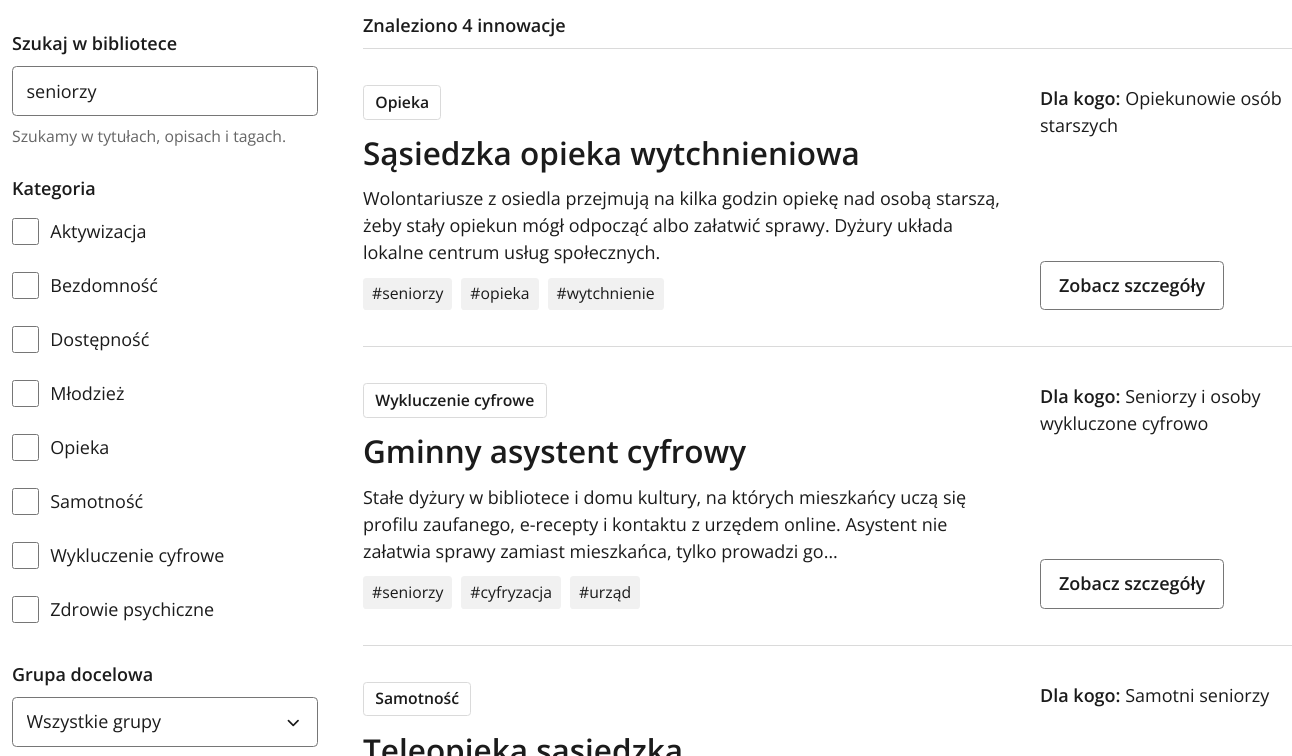
Test: InnovationLibrary › combines the search with category and target group filters
Expected: the search field labelled "Szukaj w bibliotece" holds "seniorzy", [12, 66, 318, 116]
Expected: the message reads "Znaleziono 4 innowacje", [363, 13, 566, 37]
Click the checkbox labelled "Opieka" at (26, 447), box [12, 434, 39, 461]
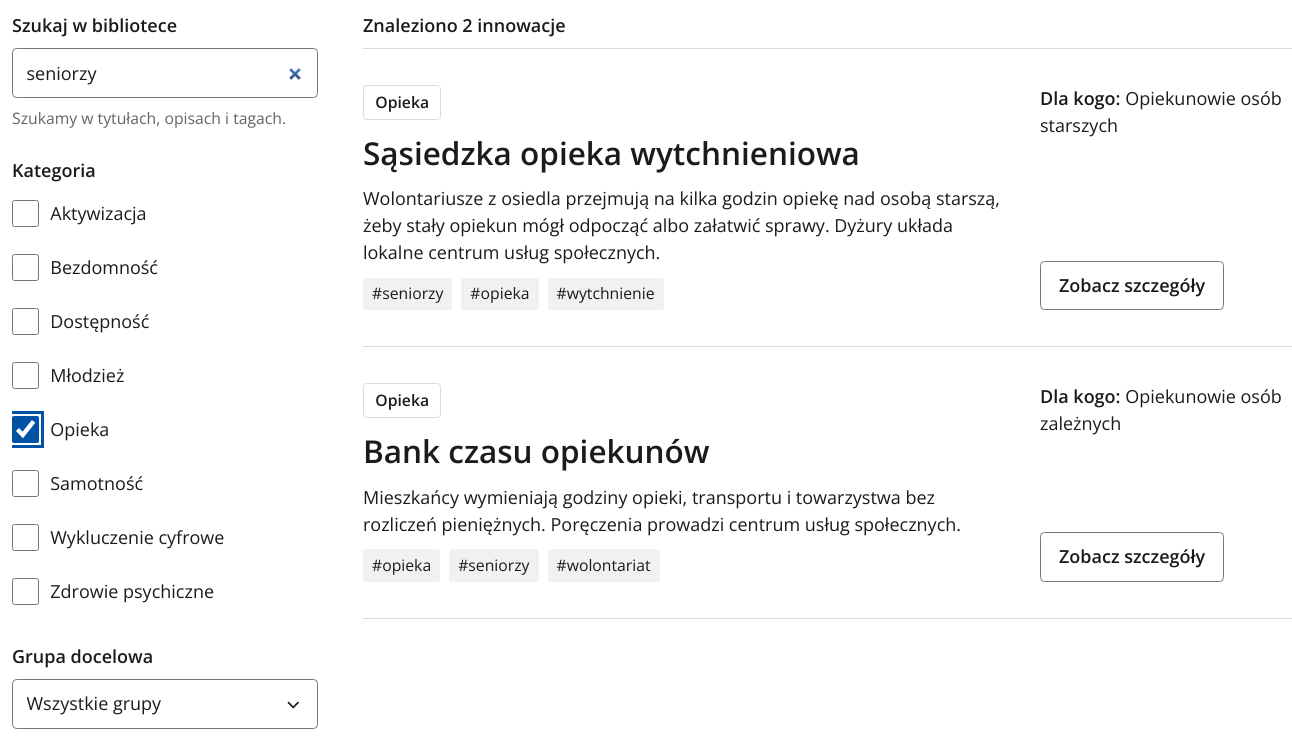
Expected: the message reads "Znaleziono 2 innowacje", [363, 13, 566, 37]
Select "Opiekunowie osób zależnych" in the dropdown labelled "Grupa docelowa" at (165, 704), box [12, 679, 318, 729]
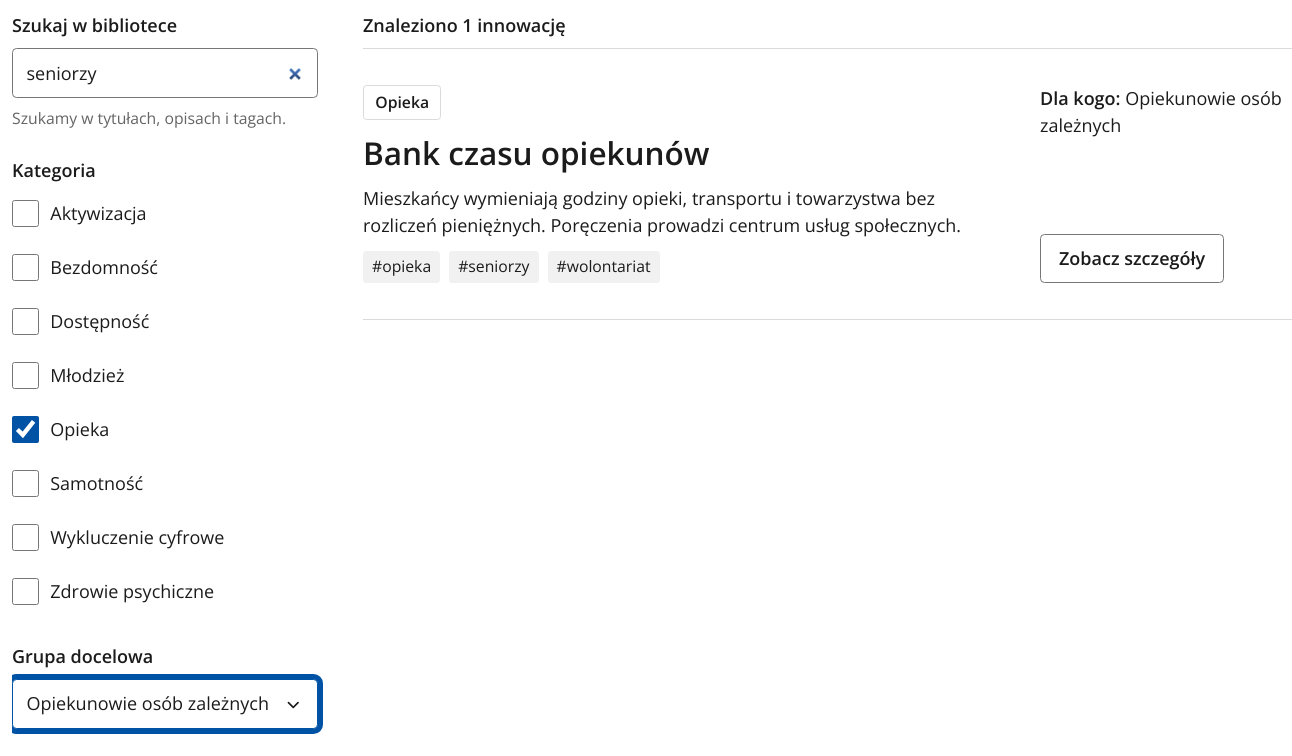
Expected: the message reads "Znaleziono 1 innowację", [363, 13, 566, 37]
